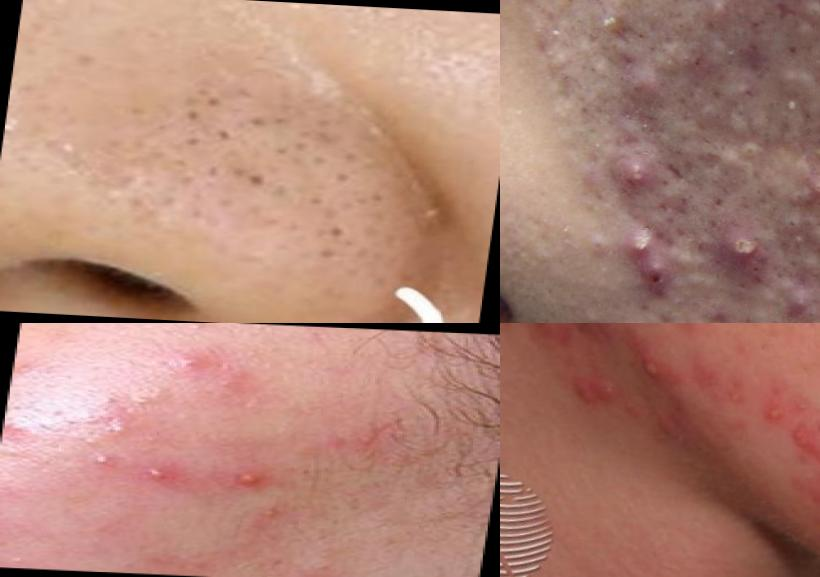blackhead: (167, 91, 260, 156), (263, 121, 350, 175), (310, 215, 379, 271), (196, 161, 286, 199)
milium: (37, 128, 127, 175)
papular: (555, 363, 625, 428), (712, 33, 776, 86), (785, 276, 820, 324), (632, 66, 664, 113)
purulent: (411, 190, 470, 238), (716, 225, 772, 273), (130, 456, 191, 500), (228, 459, 282, 506), (166, 339, 213, 382), (67, 445, 124, 480), (620, 155, 659, 195), (631, 358, 674, 389), (632, 231, 656, 268), (761, 405, 785, 431)
sebo-crystan-conglo: (785, 425, 820, 462)
whitehead: (78, 378, 186, 421), (568, 227, 621, 301), (776, 64, 819, 105), (733, 129, 768, 174), (773, 206, 815, 239), (592, 73, 622, 114), (724, 1, 776, 18), (794, 1, 820, 35), (545, 43, 578, 69), (618, 1, 660, 14), (563, 1, 589, 21), (521, 1, 545, 17)
